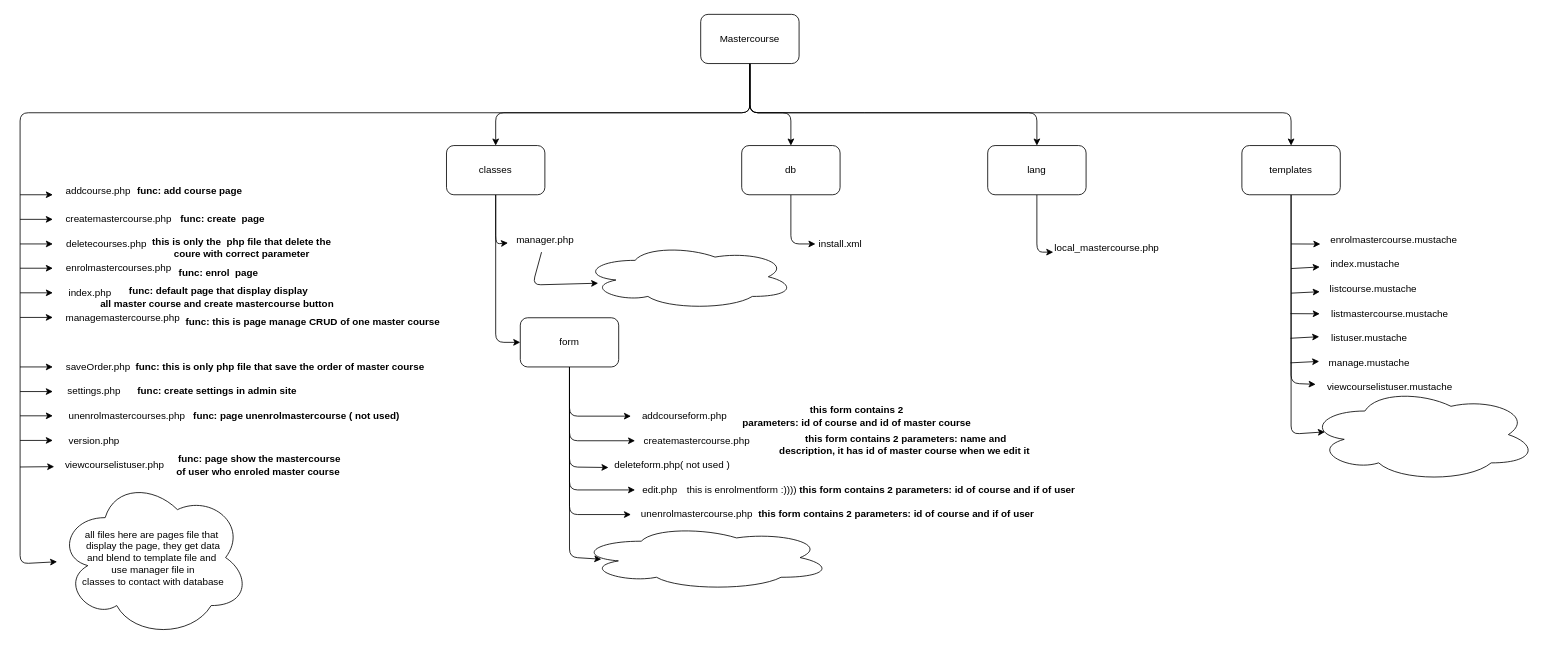
Image size: 1551x652. Some labels were removed from this diagram. The shapes that lost their labels are listed below. From the top down, each one's centre as x and y in pixels, then its label:
At (x=688, y=276): "This file consist of all function of plugins and take cares databases".
At (x=1422, y=434): "this folder contains all view's template and it is used by page file".
At (x=704, y=557): "this folder contains all forms of plugins: add, create, delete, enrol,...".
